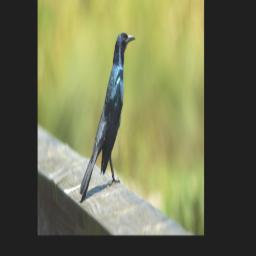Crow: (78, 30, 135, 203)
